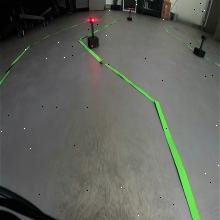red: (89, 17, 95, 24)
